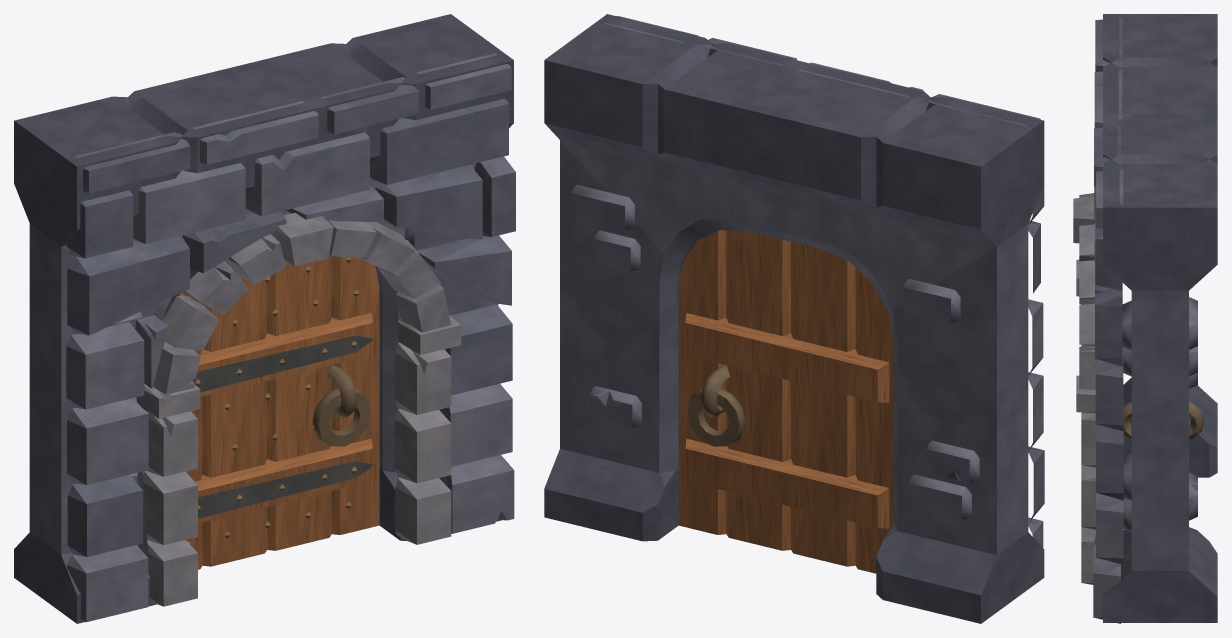
Rendered from strapped_door.gltf.
3 views of the same model, side by side, from view 1: azimuth 30°, elevation 25°; view 2: azimuth 150°, elevation 25°; view 3: azimuth 270°, elevation 25° (orthographic). The views are drawn at different scales.
Visible parts, largest first — view 1: strapped_door; view 2: strapped_door; view 3: strapped_door.
Part boxes in pixels (x1,y1,x2,y2): strapped_door: (14, 14, 515, 623); strapped_door: (544, 14, 1044, 623); strapped_door: (1073, 14, 1217, 623).
Bounding box in the file's own units: 4 × 4.04 × 1.26.
11 materials, 11 textured.
